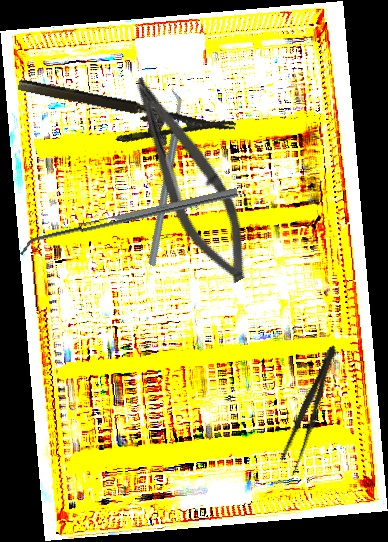Chopper: (85, 88, 243, 268)
Dressing Forceps: (275, 341, 344, 478)
Micro Scissor: (107, 68, 270, 292)
Needle Holder: (11, 76, 237, 165)
Spatula Surgical: (16, 187, 241, 256)
